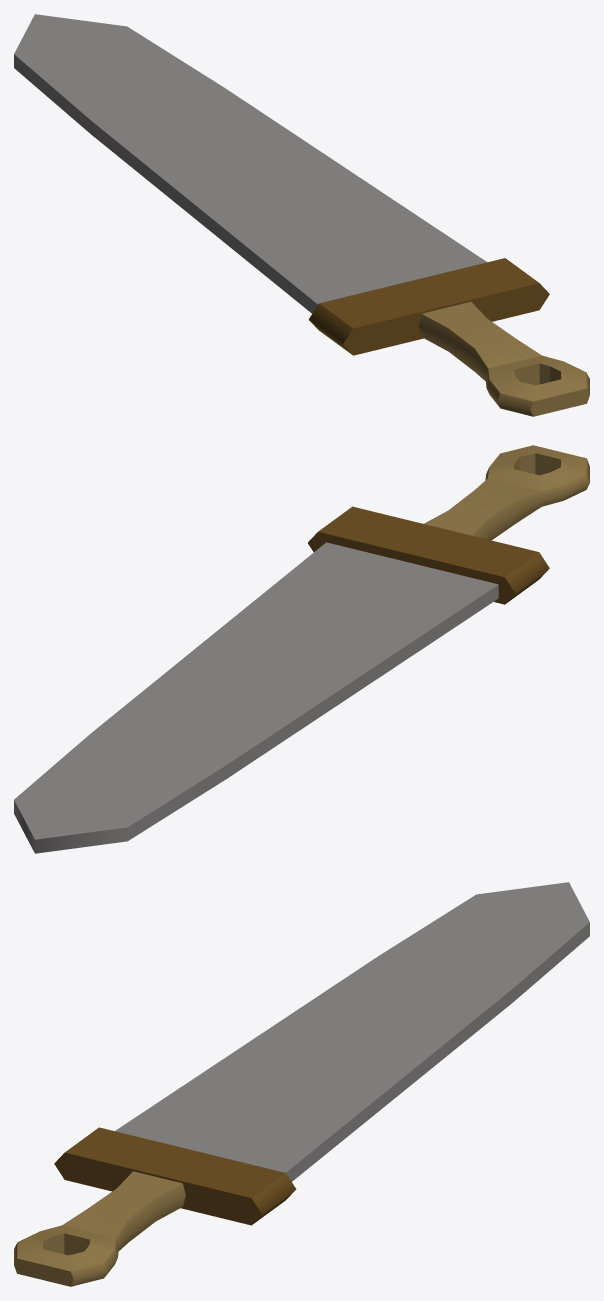
The model's file is mesh_sword.fbx.
3 renders of one model, top to bottom at view 1: azimuth 30°, elevation 25°; view 2: azimuth 150°, elevation 25°; view 3: azimuth 330°, elevation 25°, orthographic.
Visible parts, largest first — view 1: sword; view 2: sword; view 3: sword.
Part boxes in pixels (left/top/right/bottom): sword: left=14, top=14, right=589, bottom=416; sword: left=14, top=445, right=589, bottom=853; sword: left=14, top=882, right=589, bottom=1286.
Bounding box in the file's own units: 30.9 × 3.88 × 135.
1 material, 1 textured.
